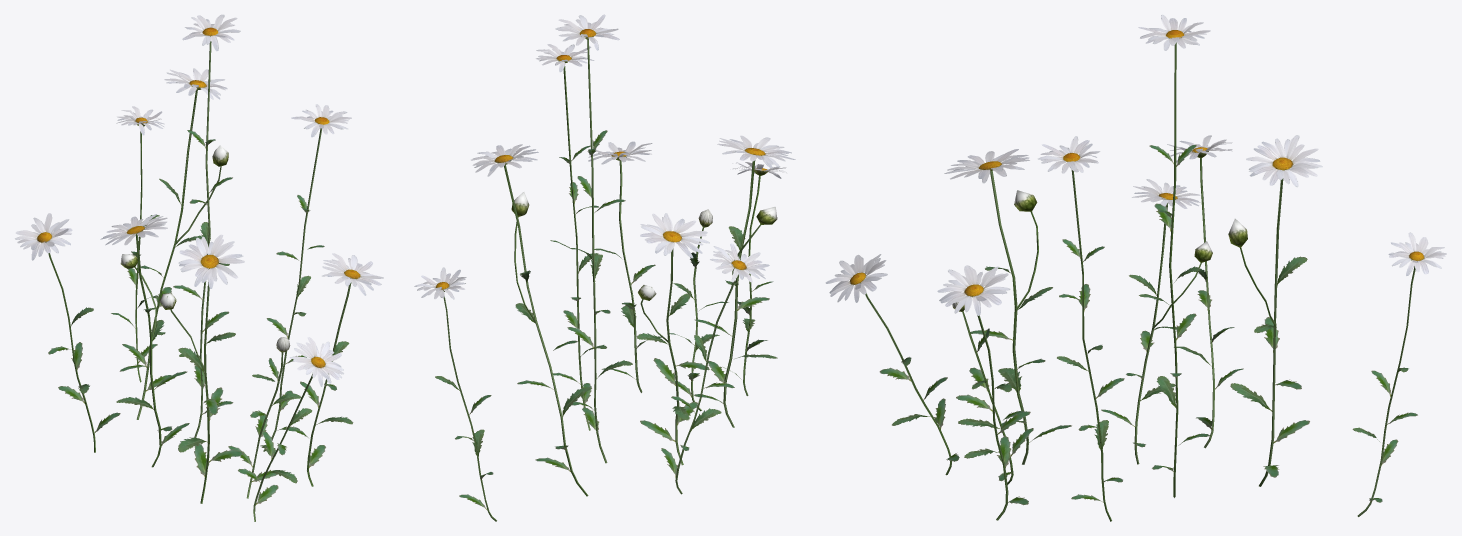
The model's file is Daisy-group4.fbx.
3 renders of one model, left to right at view 1: azimuth 30°, elevation 25°; view 2: azimuth 150°, elevation 25°; view 3: azimuth 270°, elevation 25°, orthographic. The views are drawn at different scales.
Visible parts, largest first — view 1: Daisy-group4_LOD0; view 2: Daisy-group4_LOD0; view 3: Daisy-group4_LOD0.
Part boxes in pixels (x1=…): Daisy-group4_LOD0: x1=15, y1=14, x2=383, y2=521; Daisy-group4_LOD0: x1=414, y1=14, x2=795, y2=521; Daisy-group4_LOD0: x1=825, y1=14, x2=1446, y2=521.
Bounding box in the file's own units: 74.62 × 108 × 126.
